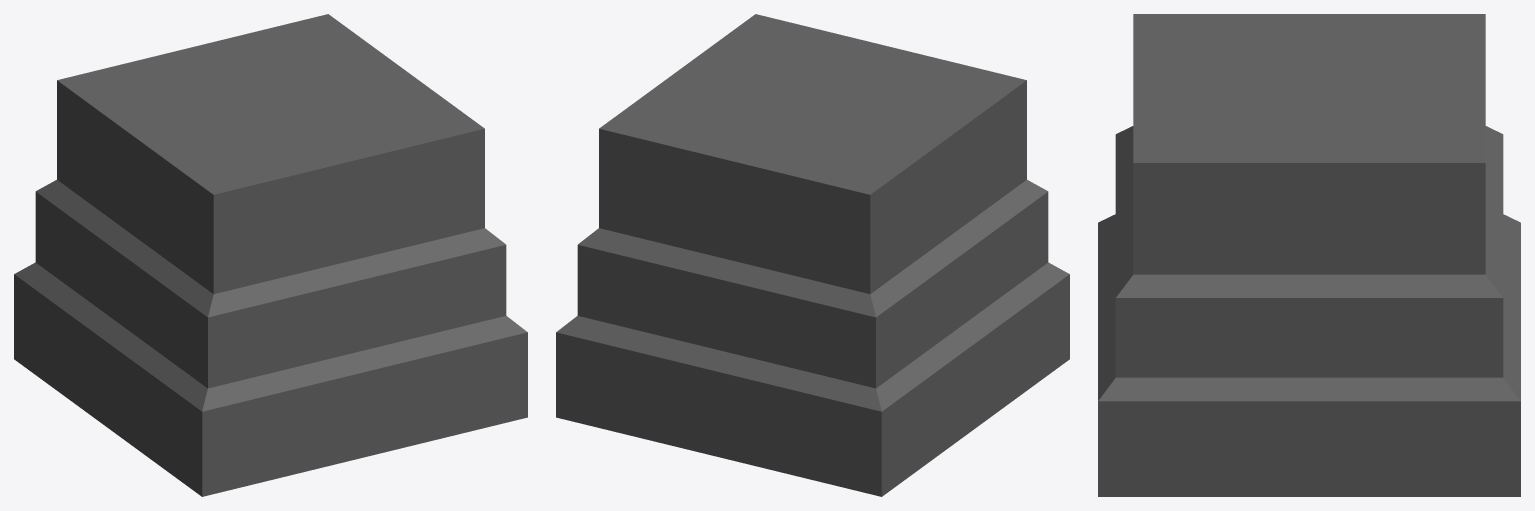
The model's file is TowerBase.fbx.
3 renders of one model, left to right at view 1: azimuth 30°, elevation 25°; view 2: azimuth 150°, elevation 25°; view 3: azimuth 270°, elevation 25°, orthographic. The views are drawn at different scales.
Parts seen in each view (by area): view 1: TowerBase; view 2: TowerBase; view 3: TowerBase.
Boxes of the visible parts, x1,y1,x2,y2 form: TowerBase: [14, 14, 527, 496]; TowerBase: [556, 14, 1069, 496]; TowerBase: [1098, 14, 1520, 496].
Bounding box in the file's own units: 240 × 200 × 240.
